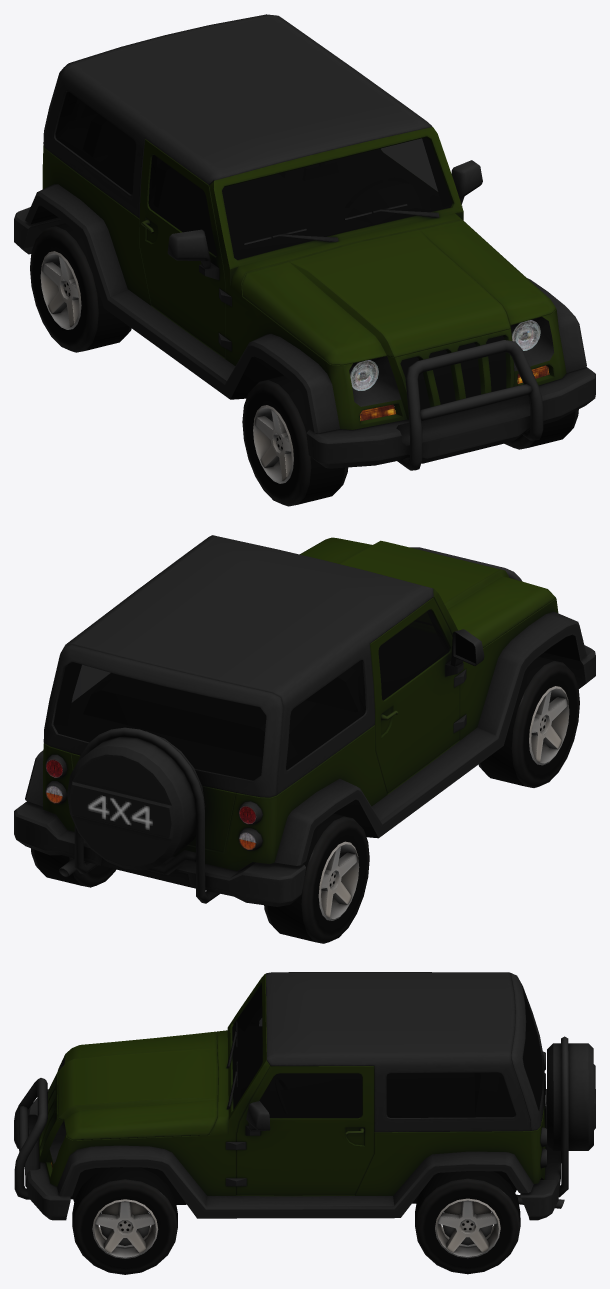
The model's file is pack_7.glb.
The picture shows the model from 3 angles, top to bottom: view 1: azimuth 30°, elevation 25°; view 2: azimuth 150°, elevation 25°; view 3: azimuth 270°, elevation 25°; orthographic projection. The views are drawn at different scales.
Parts seen in each view (by area): view 1: pack_7; view 2: pack_7; view 3: pack_7.
Part boxes in pixels (bbox=[...]): pack_7: bbox=[14, 14, 595, 506]; pack_7: bbox=[14, 535, 595, 943]; pack_7: bbox=[14, 972, 595, 1274].
Size of the model in its own units: 2.19 by 1.75 by 4.4.
Materials: 4 (3 with a texture image).
